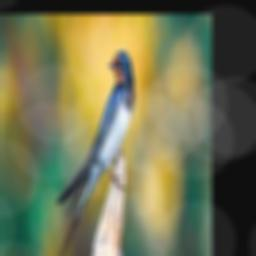Swallow: (56, 50, 134, 256)
